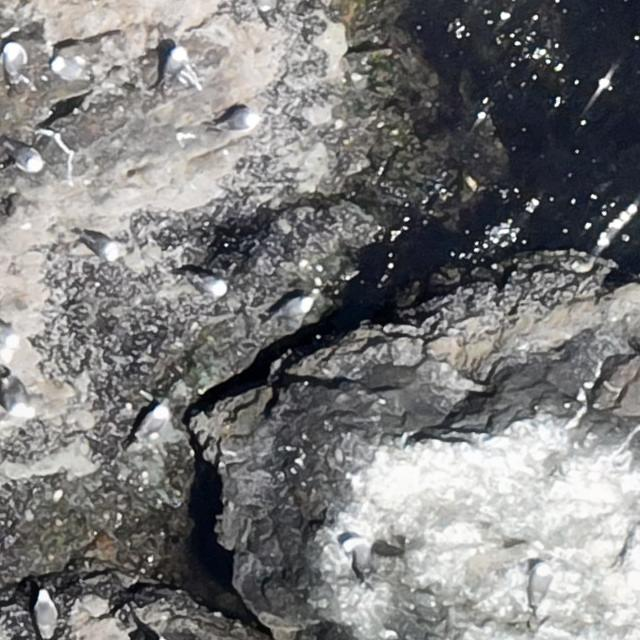umineko: (128, 404, 168, 448), (1, 371, 35, 415), (346, 534, 372, 584), (7, 139, 43, 173), (51, 57, 90, 83), (214, 111, 259, 133), (36, 594, 56, 634), (86, 235, 117, 258), (532, 564, 550, 602), (4, 44, 22, 78), (164, 49, 183, 80), (278, 295, 308, 314), (196, 277, 224, 295), (257, 0, 275, 11)
